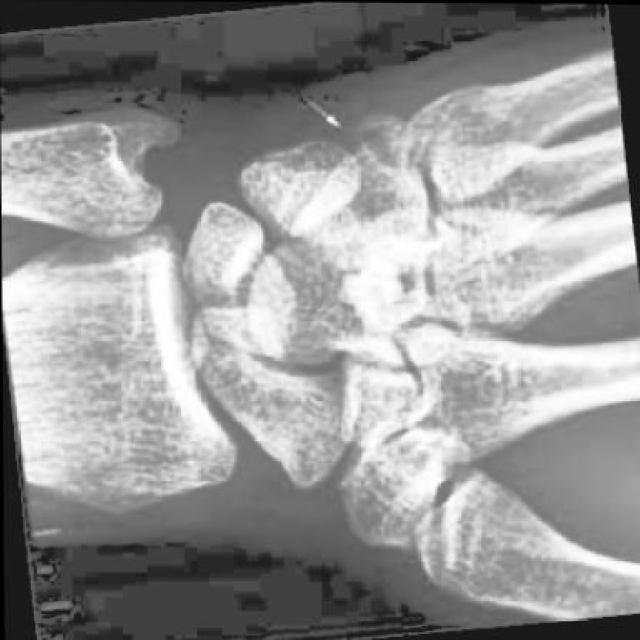Fracture: (334, 103, 416, 182)
